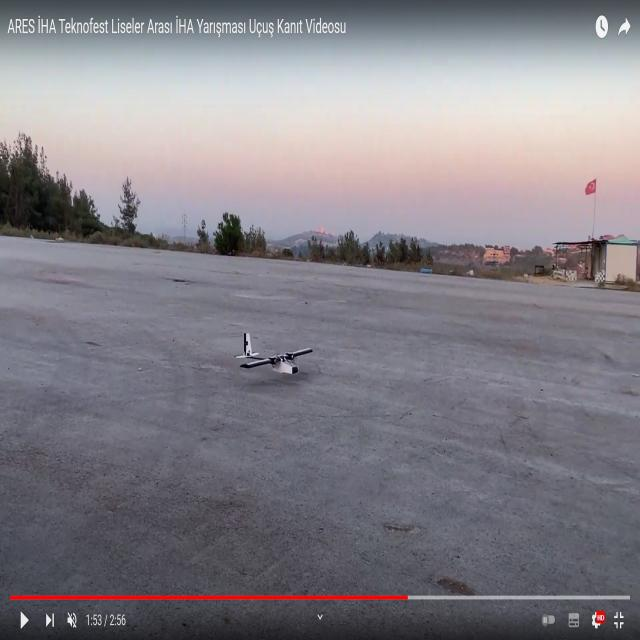iha: (274, 329, 277, 382)
